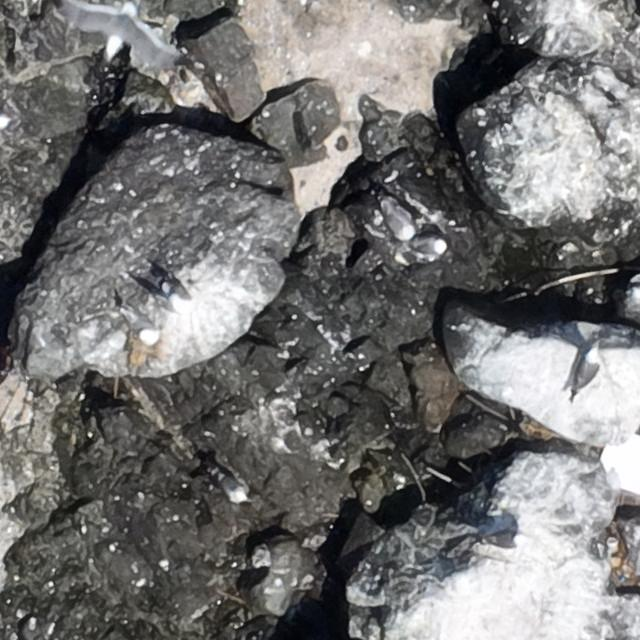F: (72, 4, 186, 74)
umineko: (115, 302, 159, 346), (154, 268, 194, 316), (374, 192, 415, 238), (218, 474, 247, 502), (578, 353, 598, 389), (418, 236, 448, 255), (485, 533, 521, 548)
